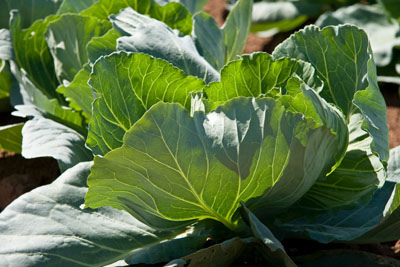cabbage: (0, 5, 398, 266)
